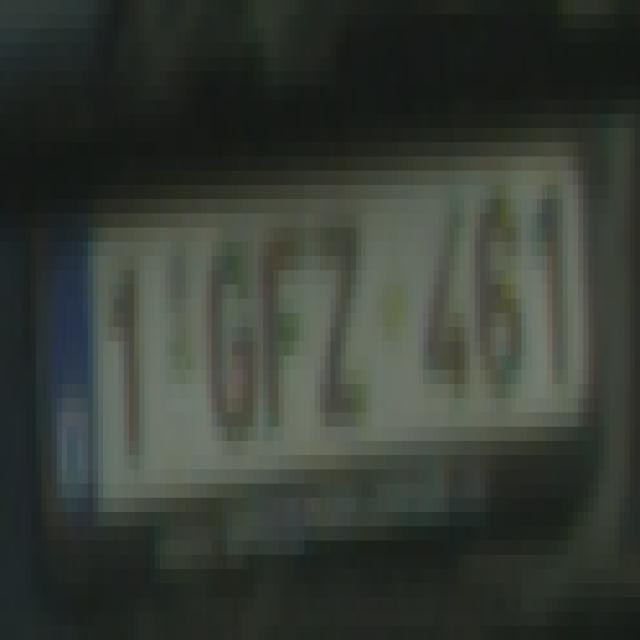Autre: (35, 134, 602, 532)
